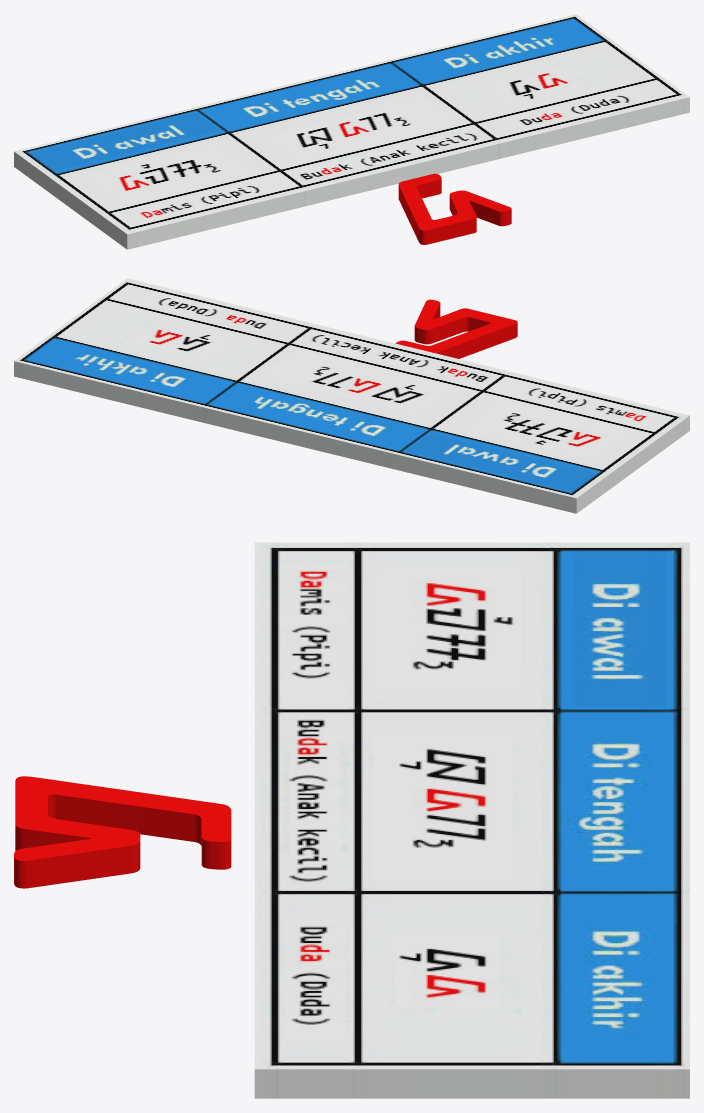
3 renders of one model, top to bottom at view 1: azimuth 30°, elevation 25°; view 2: azimuth 150°, elevation 25°; view 3: azimuth 270°, elevation 25°, orthographic. The views are drawn at different scales.
Visible parts, largest first — view 1: contoh-bunyi-huruf-da-Ngalagena, Text; view 2: contoh-bunyi-huruf-da-Ngalagena, Text; view 3: contoh-bunyi-huruf-da-Ngalagena, Text.
Boxes of the visible parts, box(x1,y1,x2,y2) form: contoh-bunyi-huruf-da-Ngalagena: box(14, 14, 689, 249); Text: box(398, 173, 511, 244); contoh-bunyi-huruf-da-Ngalagena: box(14, 278, 689, 513); Text: box(395, 299, 517, 358); contoh-bunyi-huruf-da-Ngalagena: box(254, 542, 689, 1098); Text: box(14, 776, 231, 888).
Size of the model in its own units: 2.86 by 0.11 by 1.55.
2 materials, 1 textured.
